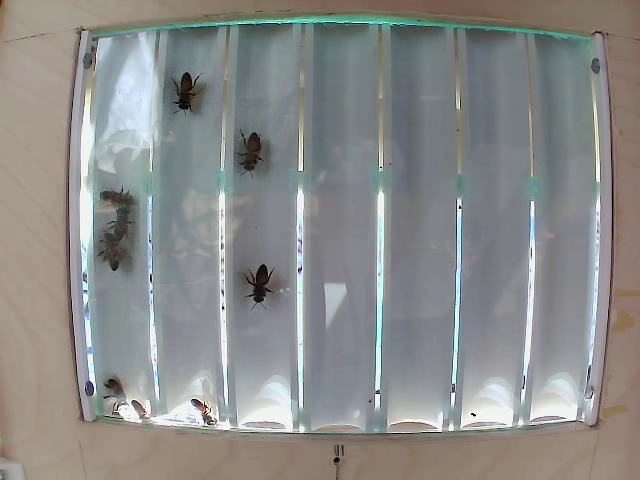bee: (244, 247, 290, 314), (228, 136, 278, 191), (168, 68, 219, 120), (89, 226, 136, 271), (110, 206, 141, 239), (104, 176, 140, 203)
